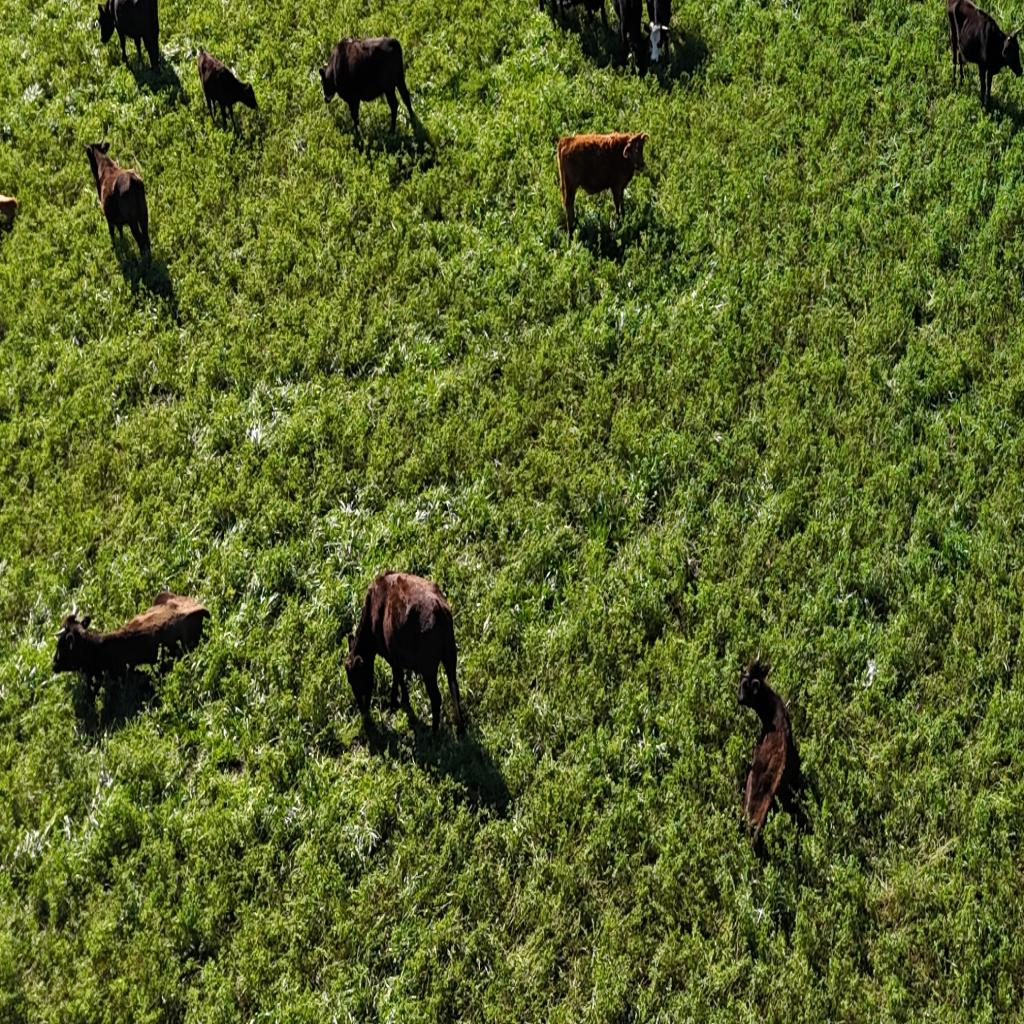cow: (343, 569, 467, 744), (54, 592, 211, 704), (736, 652, 810, 856), (316, 30, 416, 138), (557, 129, 652, 238), (84, 140, 151, 266), (944, 0, 1021, 108), (196, 44, 259, 134), (96, 2, 160, 75), (611, 1, 649, 74), (544, 0, 606, 40), (643, 1, 672, 70), (96, 0, 117, 45), (0, 191, 20, 233)
